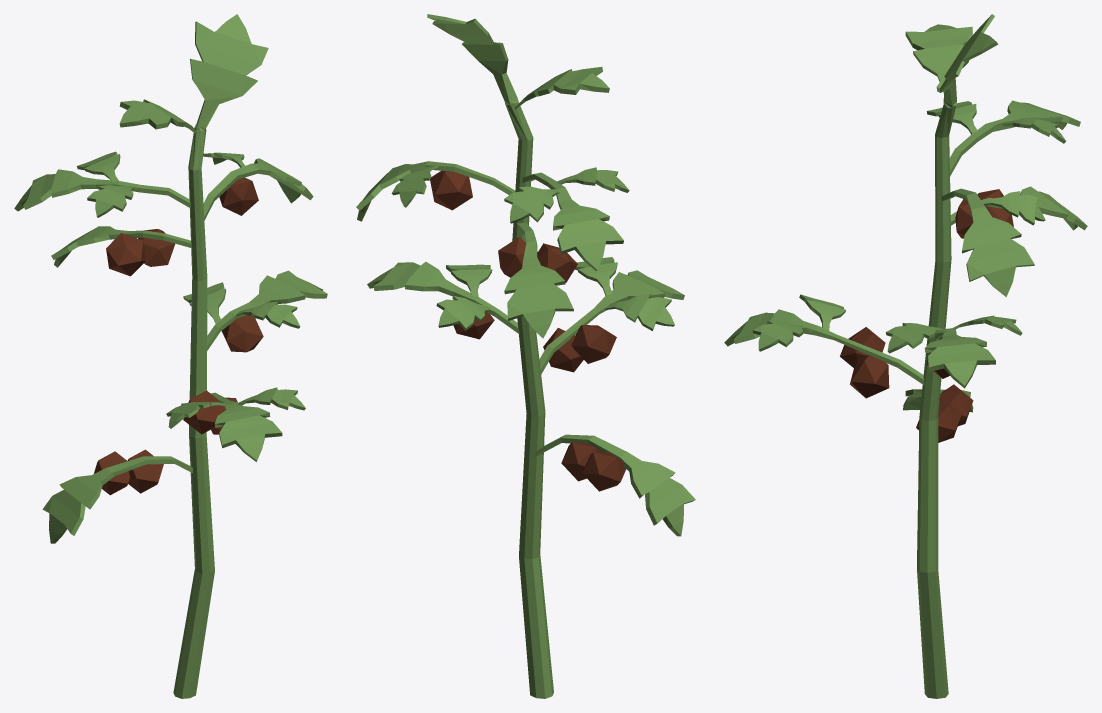
File: crop_tomato.s4.glb
The picture shows the model from 3 angles, left to right: view 1: azimuth 30°, elevation 25°; view 2: azimuth 150°, elevation 25°; view 3: azimuth 270°, elevation 25°; orthographic projection. The views are drawn at different scales.
Bounding box in the file's own units: 0.4611 × 1 × 0.4709.
